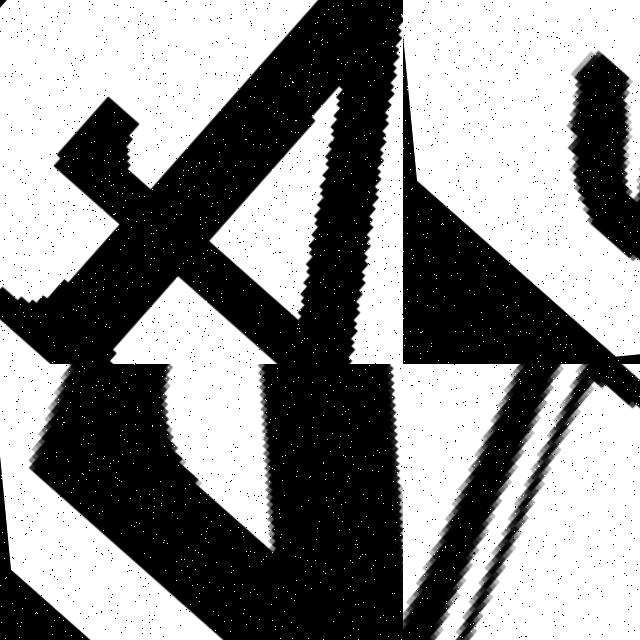7: (403, 364, 640, 640)
D: (403, 0, 640, 364)
Z: (0, 364, 403, 640)
